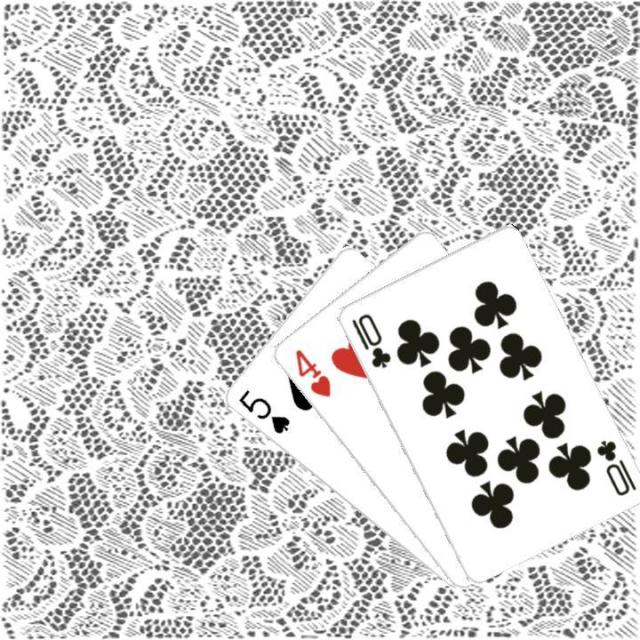10C: (347, 309, 392, 371), (592, 436, 637, 498)
4H: (290, 345, 332, 399)
5S: (234, 386, 292, 436)
